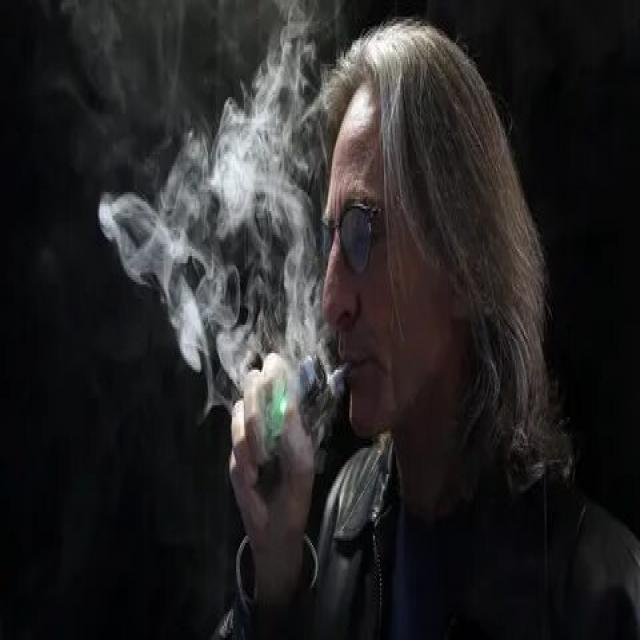smoke: (249, 329, 339, 467)
